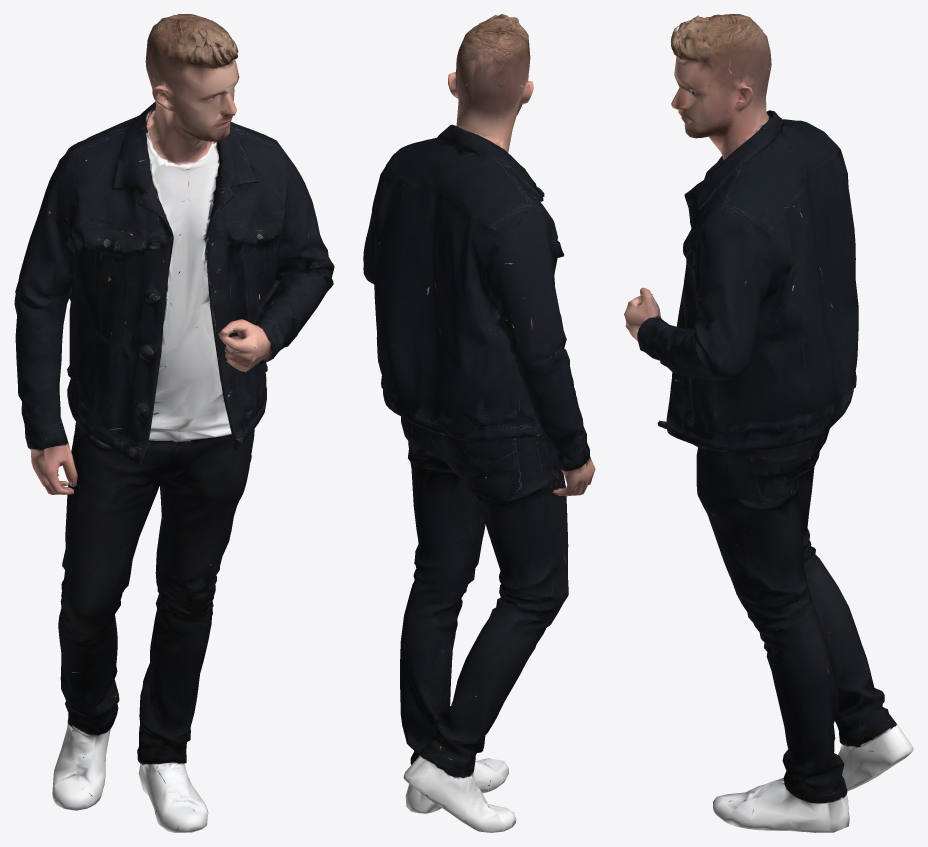
Rendered from denim-casual-look-2.glb.
3 renders of one model, left to right at view 1: azimuth 30°, elevation 25°; view 2: azimuth 150°, elevation 25°; view 3: azimuth 270°, elevation 25°, orthographic. The views are drawn at different scales.
Parts seen in each view (by area): view 1: mesh_0; view 2: mesh_0; view 3: mesh_0.
Boxes of the visible parts, box(x1,y1,x2,y2) form: mesh_0: box(14, 14, 334, 832); mesh_0: box(363, 14, 595, 832); mesh_0: box(624, 14, 913, 832).
Bounding box in the file's own units: 60.44 × 175 × 57.6.
1 material, 1 textured.
